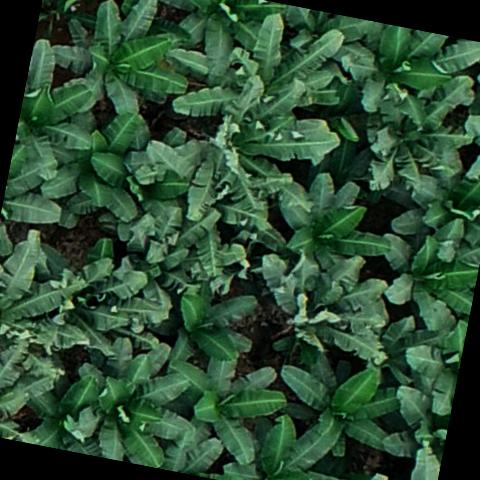Banana-plant: (171, 4, 344, 144), (186, 103, 348, 248), (39, 96, 199, 232), (64, 331, 207, 474), (262, 343, 410, 480), (243, 248, 393, 376), (48, 0, 200, 119), (362, 61, 480, 207), (158, 344, 294, 470), (50, 232, 177, 362), (269, 168, 401, 286), (369, 203, 480, 331), (10, 39, 109, 181), (0, 226, 102, 357), (316, 292, 444, 394), (344, 18, 480, 113), (390, 138, 480, 252), (221, 406, 358, 480), (167, 280, 262, 375), (18, 368, 116, 458), (145, 0, 277, 65), (397, 311, 469, 416), (276, 4, 380, 73), (0, 331, 60, 445), (384, 386, 453, 466)
